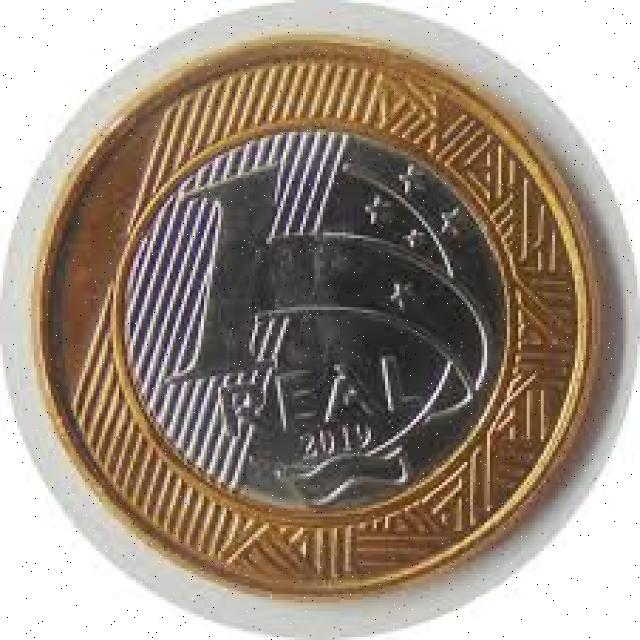1 real: (39, 34, 598, 600)
